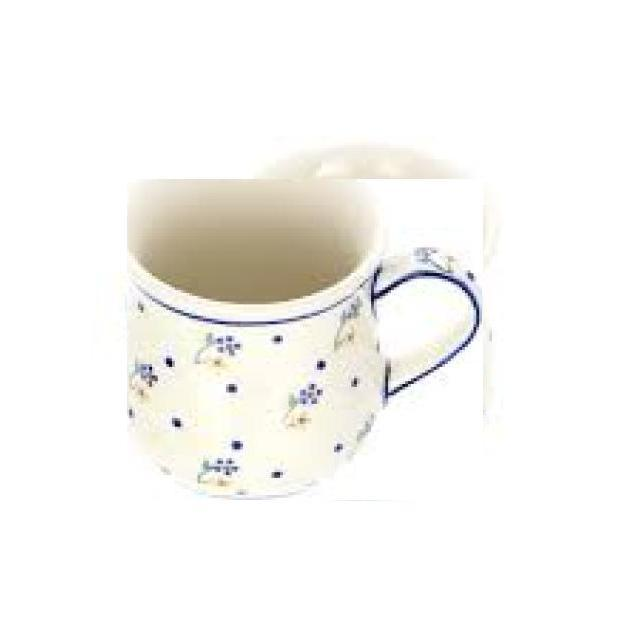Coffee Mug: (128, 179, 485, 495)
